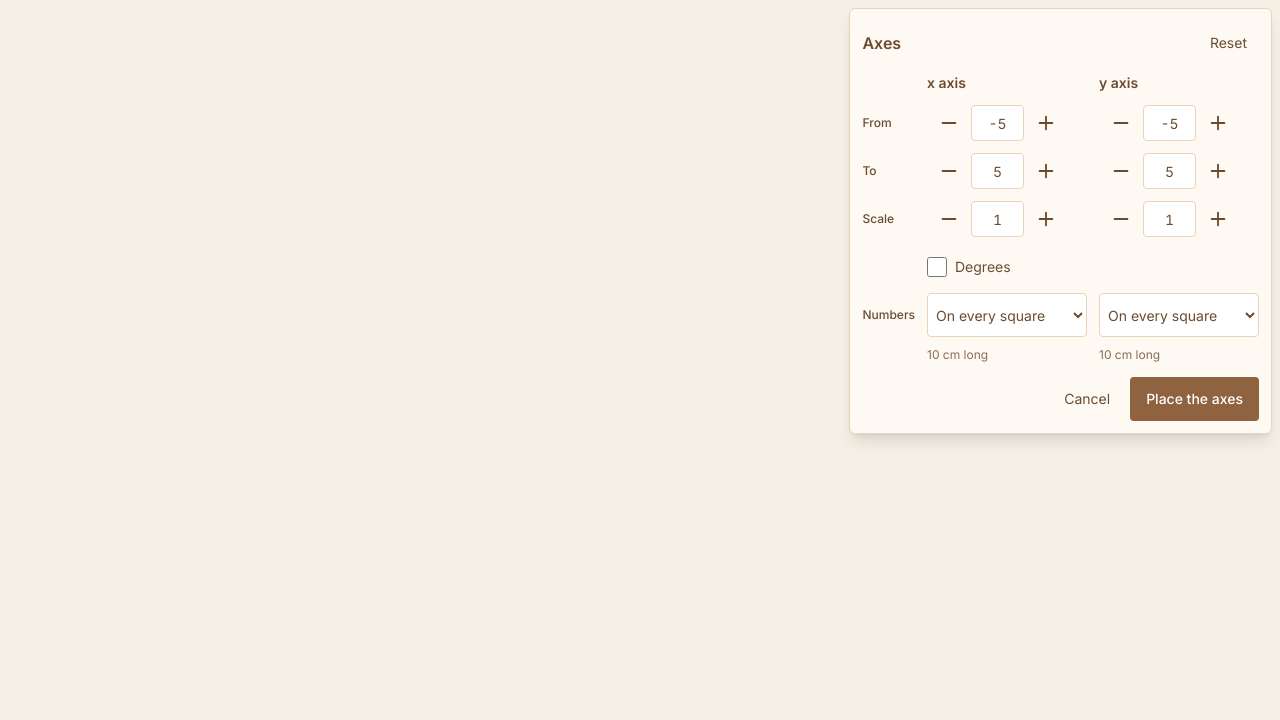
Test: AxesPanel › numbers the x axis in degrees when Degrees is ticked, stepping through 15°, 30°, 45° and 90° a square
The image size is (1280, 720).
Click the checkbox labelled "Degrees" at (937, 267), box [927,257,947,277]
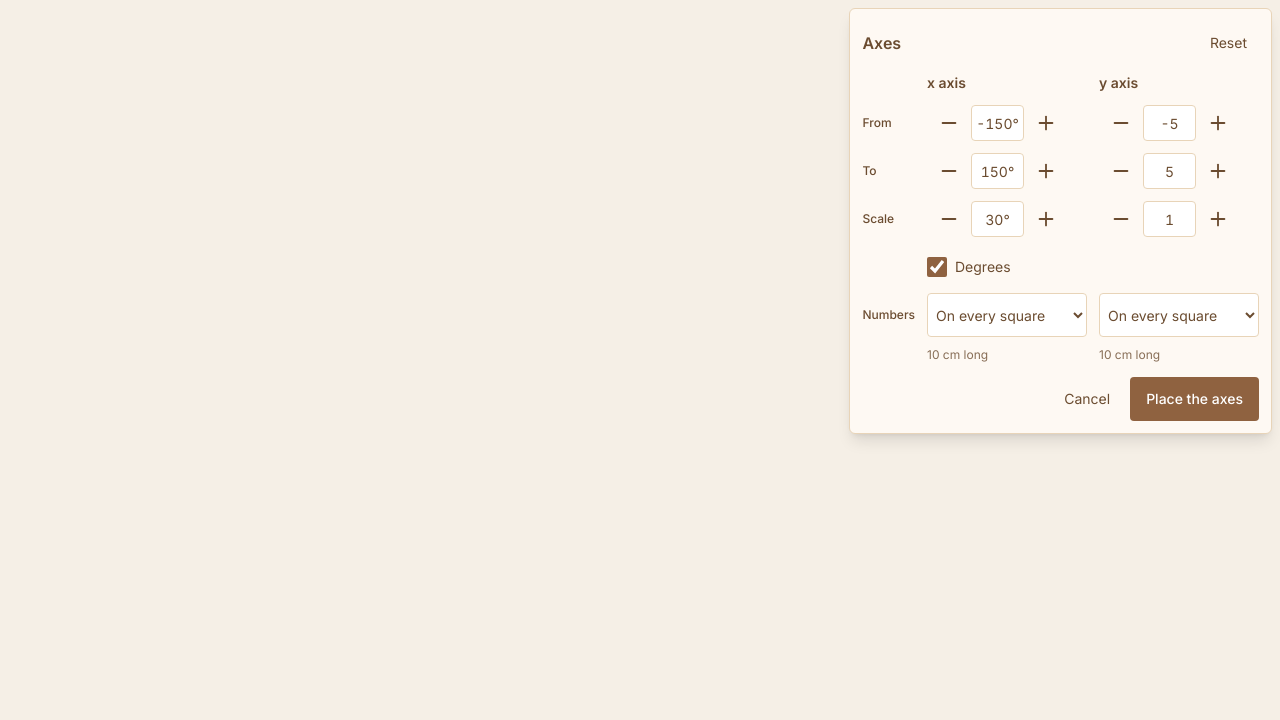
Expected: the 1st field named "Scale" holds "30°", [971,201,1024,237]
Expected: the 1st field named "From" holds "-150°", [971,105,1024,141]
Click the 1st button named "Each square worth more" at (1046, 219), box [1024,197,1068,241]
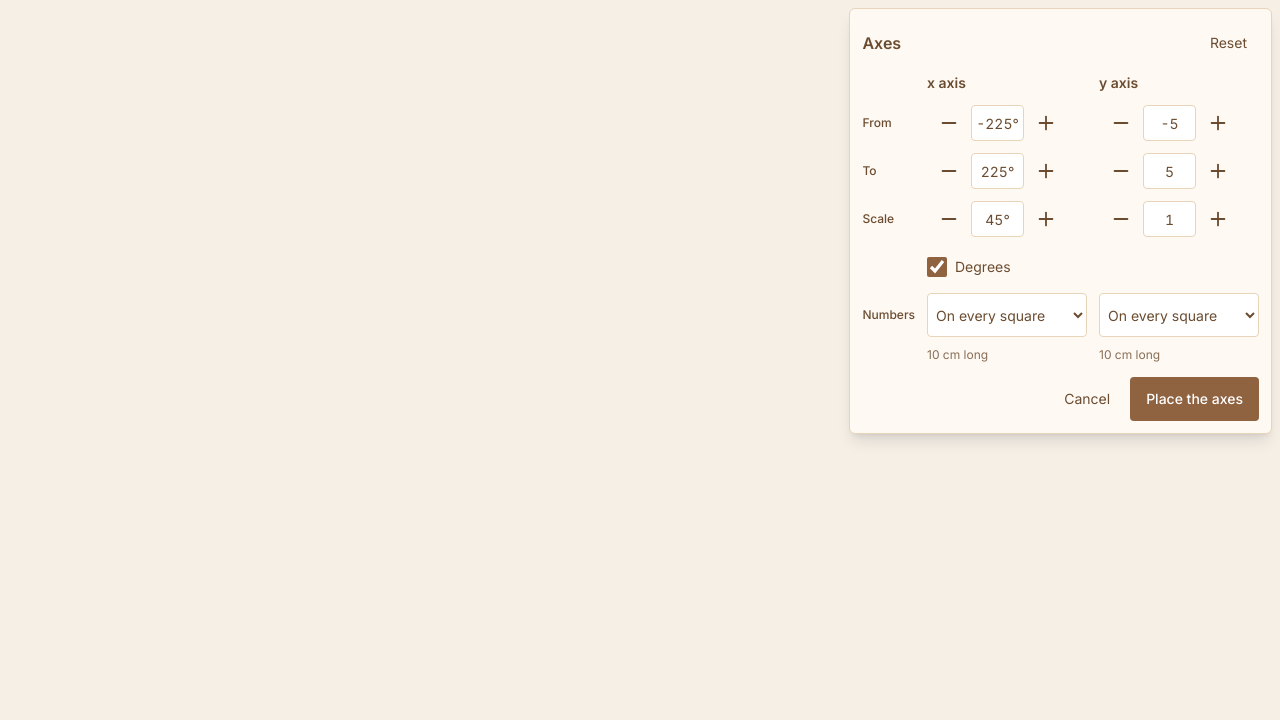
Expected: the 1st field named "Scale" holds "45°", [971,201,1024,237]
Click the checkbox labelled "Degrees" at (937, 267), box [927,257,947,277]
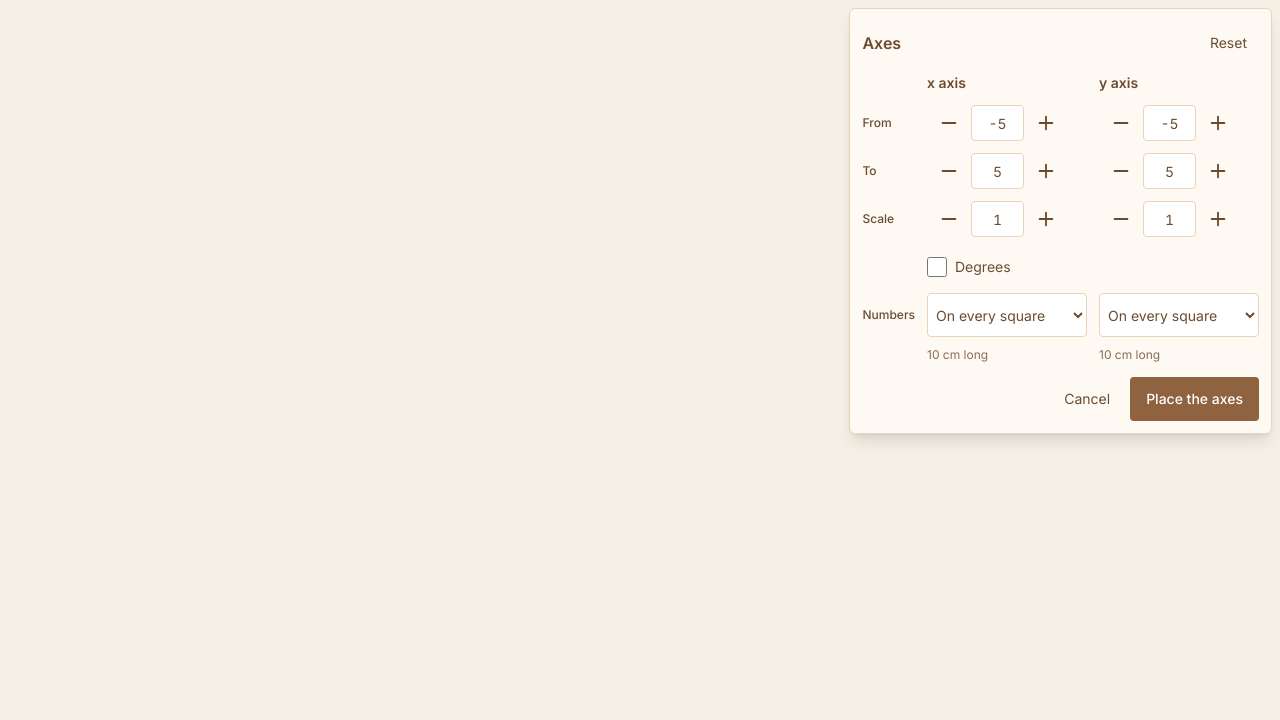
Expected: the 1st field named "Scale" holds "1", [971,201,1024,237]
Expected: the 1st field named "From" holds "-5", [971,105,1024,141]
